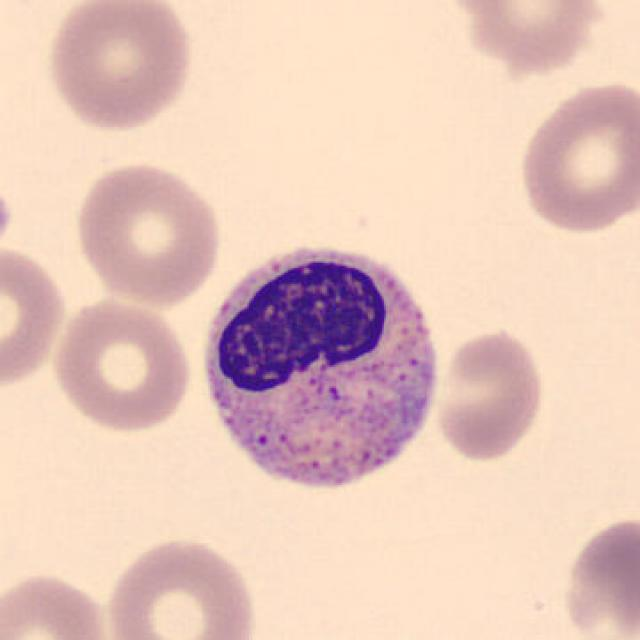Neutrophil: (191, 229, 454, 510)
RBC: (69, 157, 226, 308), (41, 0, 197, 134), (48, 294, 194, 436), (512, 74, 638, 238), (100, 532, 262, 640), (430, 326, 548, 464), (441, 0, 608, 74), (0, 238, 69, 393), (556, 511, 638, 640), (0, 567, 115, 640), (0, 166, 16, 270)
